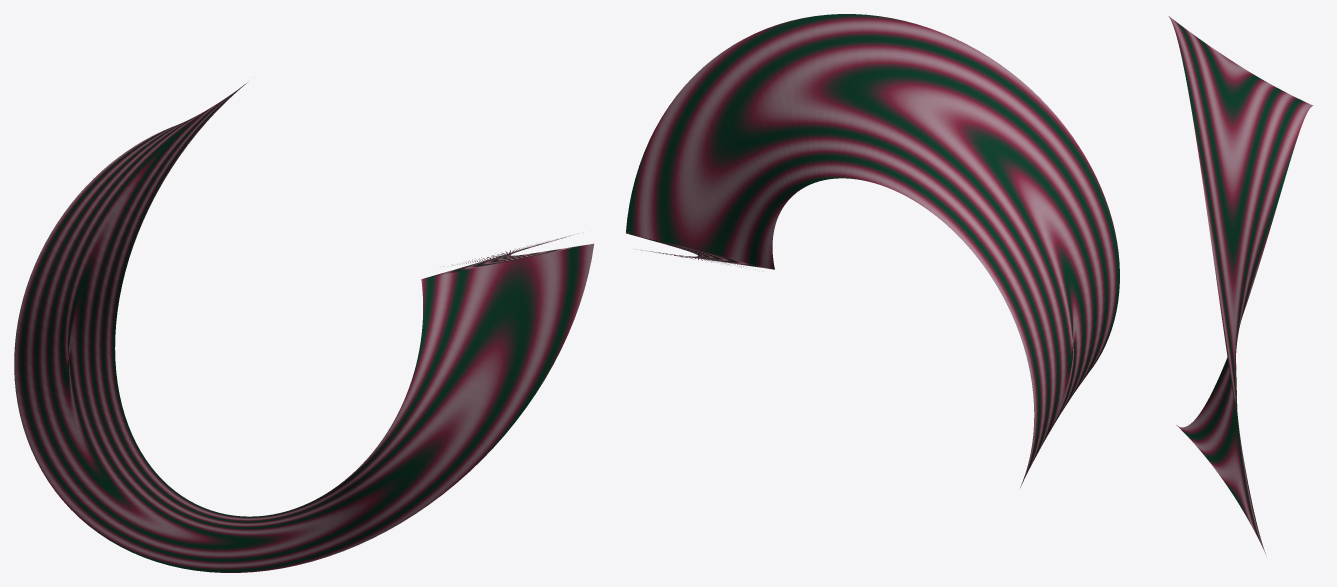
The model's file is mobius-rose-c1.glb.
3 views of the same model, side by side, from view 1: azimuth 30°, elevation 25°; view 2: azimuth 150°, elevation 25°; view 3: azimuth 270°, elevation 25° (orthographic). The views are drawn at different scales.
Parts seen in each view (by area): view 1: world; view 2: world; view 3: world.
Part boxes in pixels (left/top/right/bottom): world: left=14, top=82, right=593, bottom=572; world: left=626, top=14, right=1119, bottom=487; world: left=1168, top=16, right=1313, bottom=553.
Size of the model in its own units: 2.42 by 2.58 by 0.8.
1 material, 1 textured.
